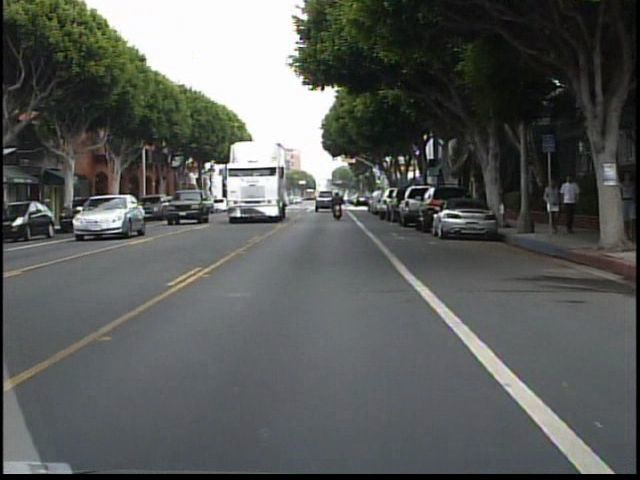person: (559, 173, 581, 236), (542, 175, 561, 233), (328, 189, 348, 220)
